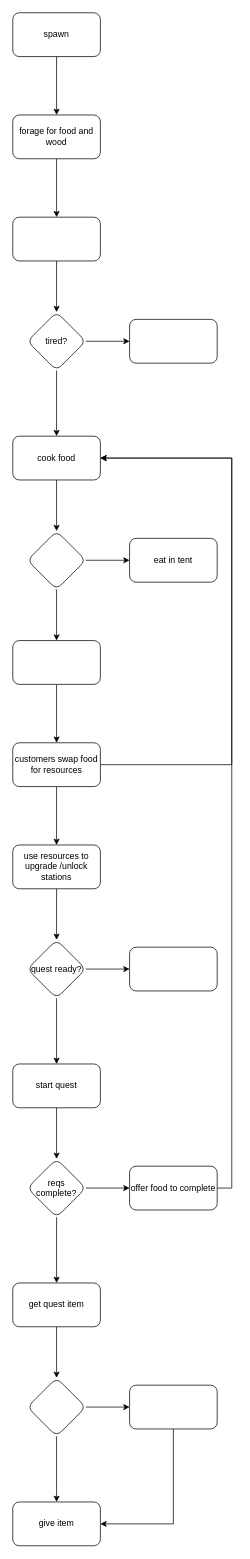
The diagram is 250 pixels wide and 1559 high, and some of its shapes have lost their labels. Each missing label, with the centre of its shape:
"get the campfire going" goes at (56,238).
"hunger OK?" goes at (56,559).
"relavant page unlocked?" goes at (56,1406).
"sell food at bench" goes at (56,662).
"sell food to gain popularity" goes at (173,968).
"sleep in tent" goes at (173,341).
"unlock page" goes at (173,1406).
